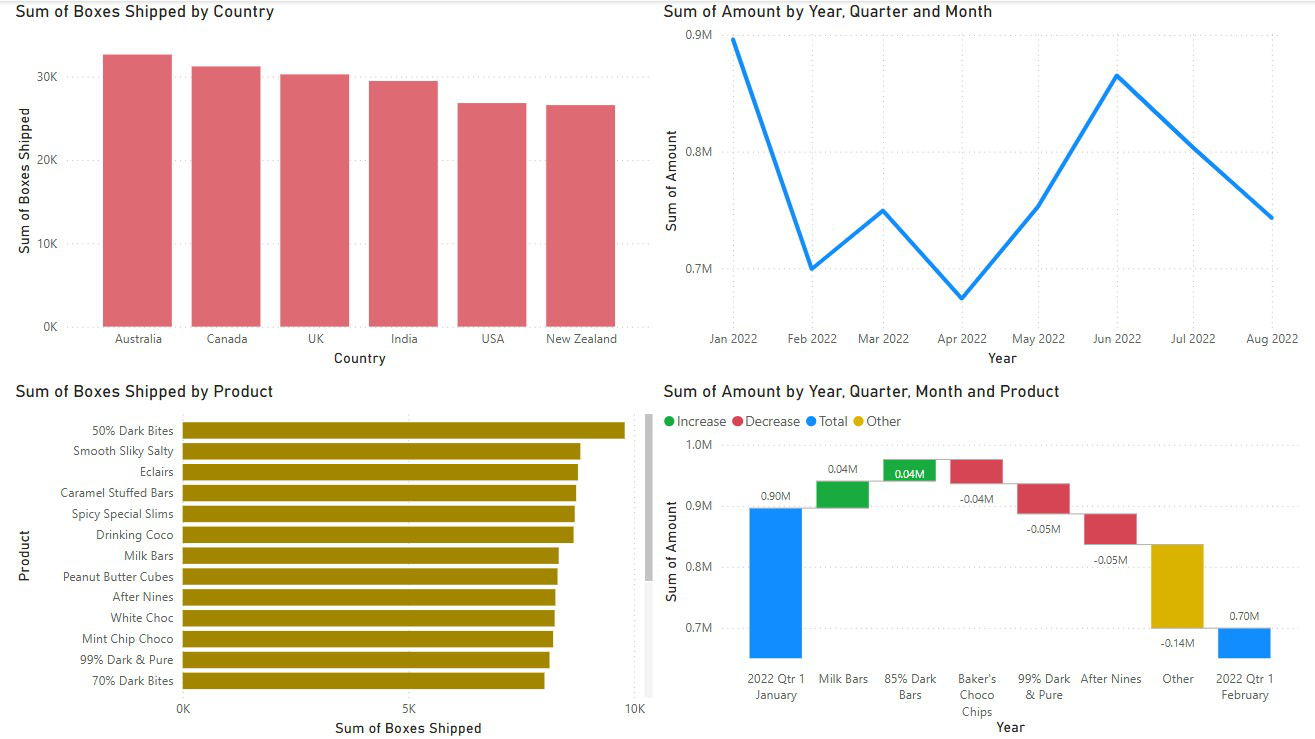

This screenshot's page, from the dashboard's own definition file:
{"tool":"powerbi","page":{"name":"Page 1","canvas":[1280,720],"ordinal":0},"visuals":[{"type":"columnChart","fields":{"Category":["data.Country"],"Y":["Sum(data.Boxes Shipped)"]},"box":[9.7,0,630.3,359.9],"z":0},{"type":"barChart","fields":{"Y":["Sum(data.Boxes Shipped)"],"Category":["data.Product"]},"box":[9.7,369.6,630.3,350.2],"z":1000},{"type":"lineChart","fields":{"Category":["data.Date.Variation.Date Hierarchy.Year","data.Date.Variation.Date Hierarchy.Quarter","data.Date.Variation.Date Hierarchy.Month","data.Date.Variation.Date Hierarchy.Day"],"Y":["Sum(data.Amount)"]},"box":[640,0,628.3,359.9],"z":2000},{"type":"waterfallChart","fields":{"Category":["data.Date.Variation.Date Hierarchy.Year","data.Date.Variation.Date Hierarchy.Quarter","data.Date.Variation.Date Hierarchy.Month"],"Breakdown":["data.Product"],"Y":["Sum(data.Amount)"]},"box":[640,369.6,628.3,350.2],"z":3000}]}

Visuals, with their boxes in screenshot pixels (x1, y1, x2, y2), scaled from the page's 1280x720 canvas onto the 1315x739 screenshot:
columnChart - data.Country x Sum(data.Boxes Shipped): BBox(10, 0, 658, 369)
barChart - Sum(data.Boxes Shipped) x data.Product: BBox(10, 379, 658, 738)
lineChart - data.Date.Variation.Date Hierarchy.Year x data.Date.Variation.Date Hierarchy.Quarter: BBox(658, 0, 1303, 369)
waterfallChart - data.Date.Variation.Date Hierarchy.Year x data.Date.Variation.Date Hierarchy.Quarter: BBox(658, 379, 1303, 738)
